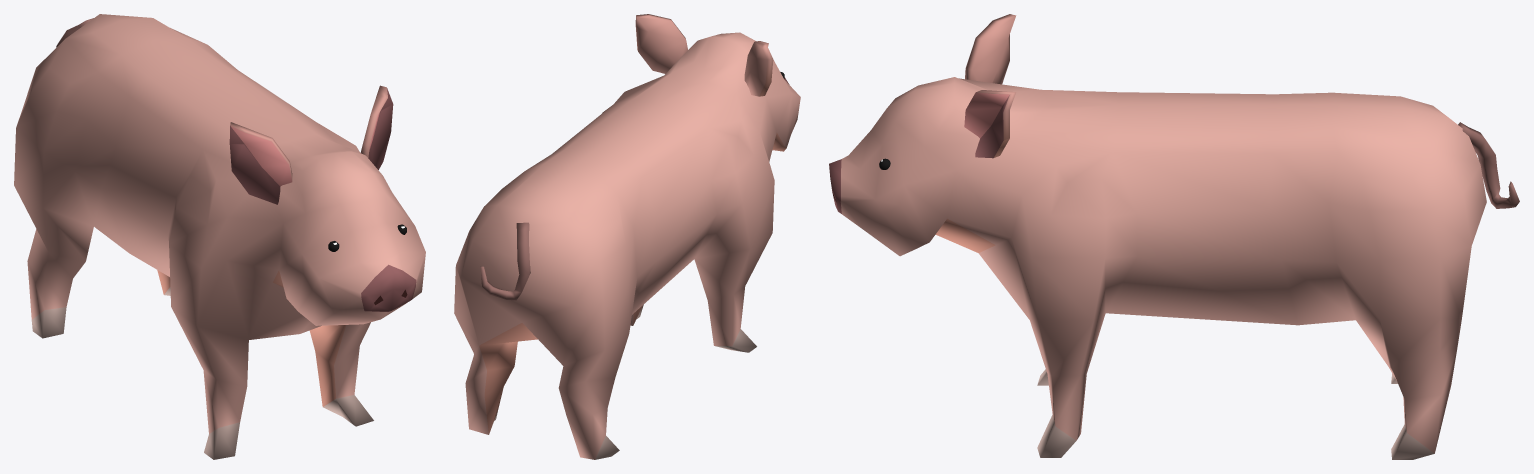
Rendered from schwein.fbx.
3 views of the same model, side by side, from view 1: azimuth 30°, elevation 25°; view 2: azimuth 150°, elevation 25°; view 3: azimuth 270°, elevation 25° (orthographic). The views are drawn at different scales.
Visible parts, largest first — view 1: Pig.001; view 2: Pig.001; view 3: Pig.001.
Boxes of the visible parts, bbox=[...] form: Pig.001: bbox=[14, 14, 425, 459]; Pig.001: bbox=[454, 14, 800, 459]; Pig.001: bbox=[829, 14, 1519, 459].
Bounding box in the file's own units: 40.93 × 69.78 × 119.
